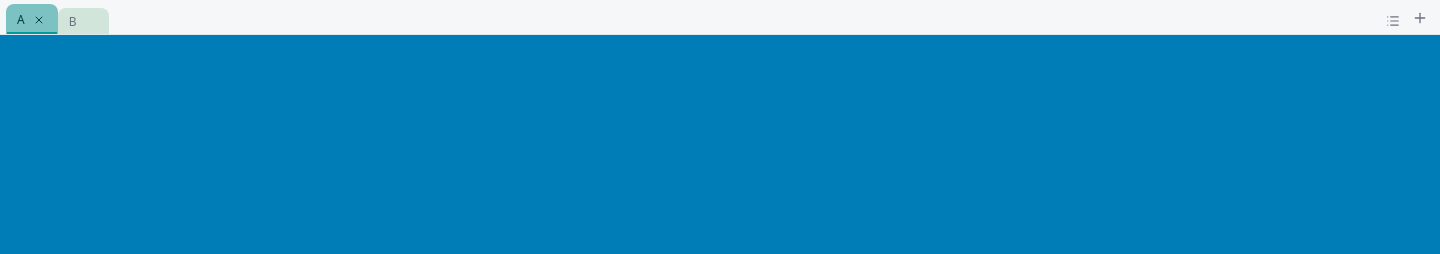
Test: TabBar › 已在最右边时「移动到最右边」禁用
Right-click the button "B" at (84, 21), box [58,8,110,34]
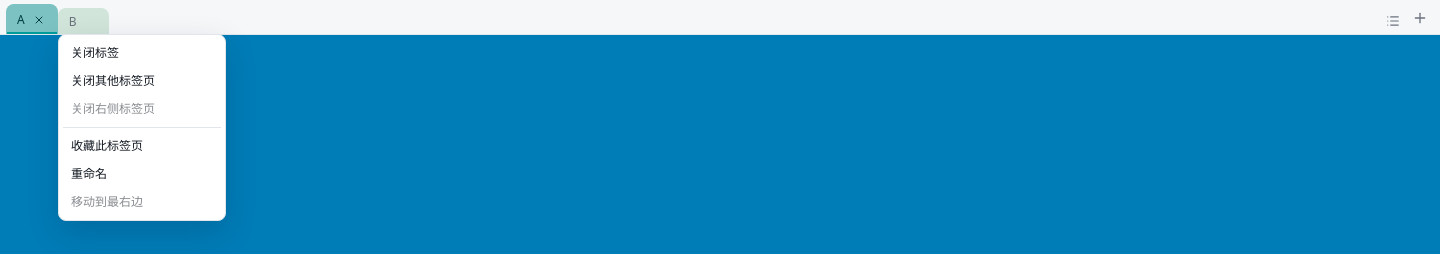
Check: the button "移动到最右边" is disabled, box [63,188,221,216]
